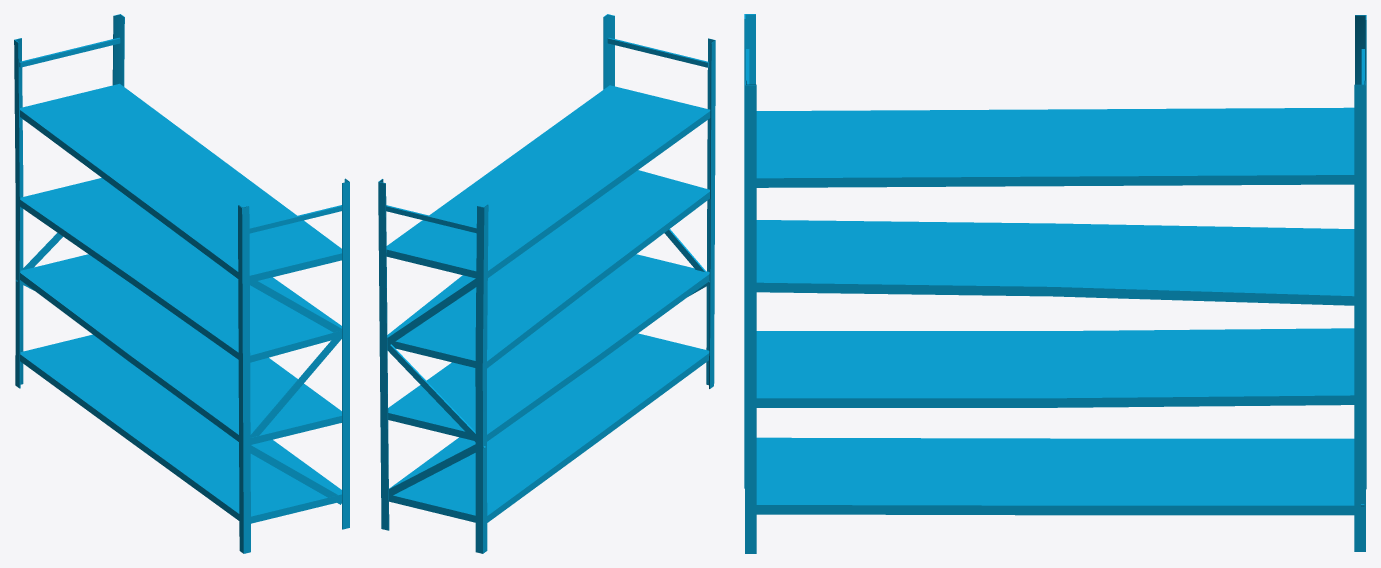
The model's file is Warehouse_Shelf_01_Lod.fbx.
3 views of the same model, side by side, from view 1: azimuth 30°, elevation 25°; view 2: azimuth 150°, elevation 25°; view 3: azimuth 270°, elevation 25° (orthographic). The views are drawn at different scales.
Parts seen in each view (by area): view 1: Warehouse_Shelf_01_Lod; view 2: Warehouse_Shelf_01_Lod; view 3: Warehouse_Shelf_01_Lod.
Part boxes in pixels (x1,y1,x2,y2): Warehouse_Shelf_01_Lod: (14,14,349,553); Warehouse_Shelf_01_Lod: (378,14,715,553); Warehouse_Shelf_01_Lod: (744,14,1366,553).
Size of the model in its own units: 75.81 by 232 by 279.
